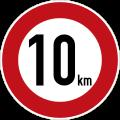Speed Limit -10-: (14, 20, 105, 104)
